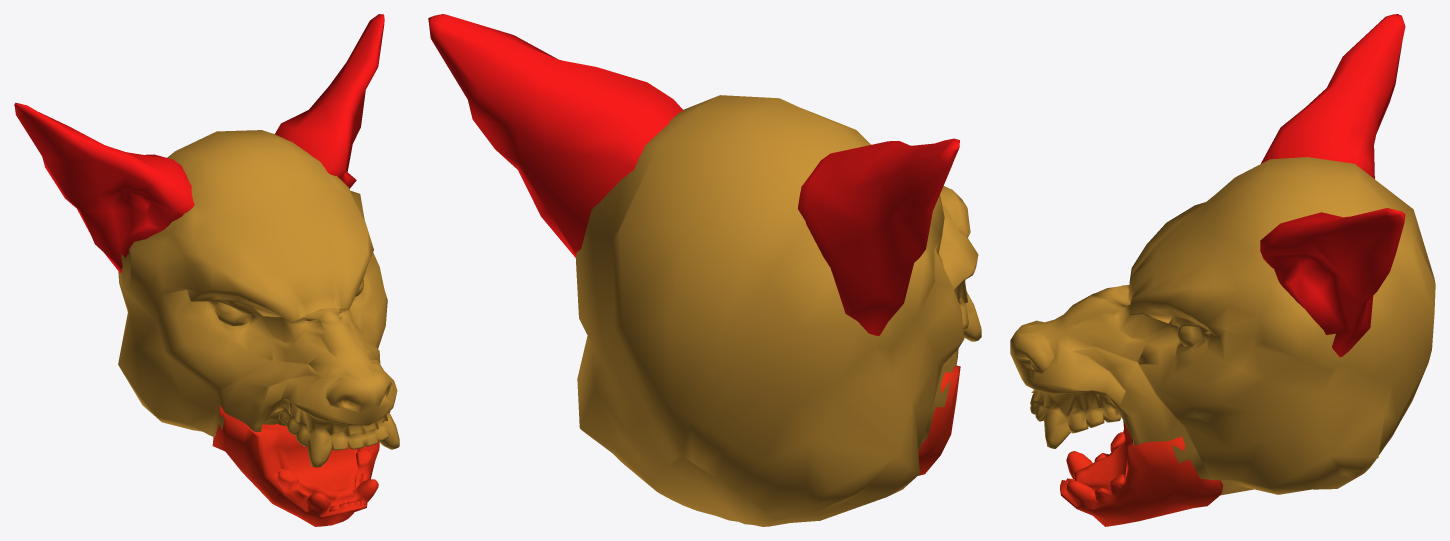
The model's file is Enemigo.FBX.
3 views of the same model, side by side, from view 1: azimuth 30°, elevation 25°; view 2: azimuth 150°, elevation 25°; view 3: azimuth 270°, elevation 25° (orthographic). The views are drawn at different scales.
Parts seen in each view (by area): view 1: VIFS110001, VIFS110000, VIFS110002, VIFS110003; view 2: VIFS110001, VIFS110003, VIFS110000, VIFS110002; view 3: VIFS110001, VIFS110003, VIFS110000, VIFS110002.
Part boxes in pixels (bbox=[...]): VIFS110001: bbox=[118, 130, 399, 467]; VIFS110000: bbox=[14, 102, 194, 273]; VIFS110002: bbox=[212, 405, 379, 526]; VIFS110003: bbox=[275, 14, 384, 188]; VIFS110001: bbox=[575, 95, 981, 526]; VIFS110003: bbox=[428, 14, 682, 257]; VIFS110000: bbox=[798, 138, 959, 336]; VIFS110002: bbox=[918, 365, 960, 475]; VIFS110001: bbox=[1010, 157, 1435, 495]; VIFS110003: bbox=[1260, 208, 1405, 357]; VIFS110000: bbox=[1261, 14, 1405, 178]; VIFS110002: bbox=[1060, 421, 1223, 526].
Bounding box in the file's own units: 5.44 × 5.18 × 4.91.
